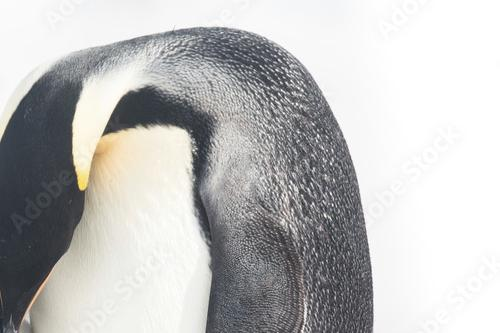Emperor Penguin: (0, 24, 409, 333)
